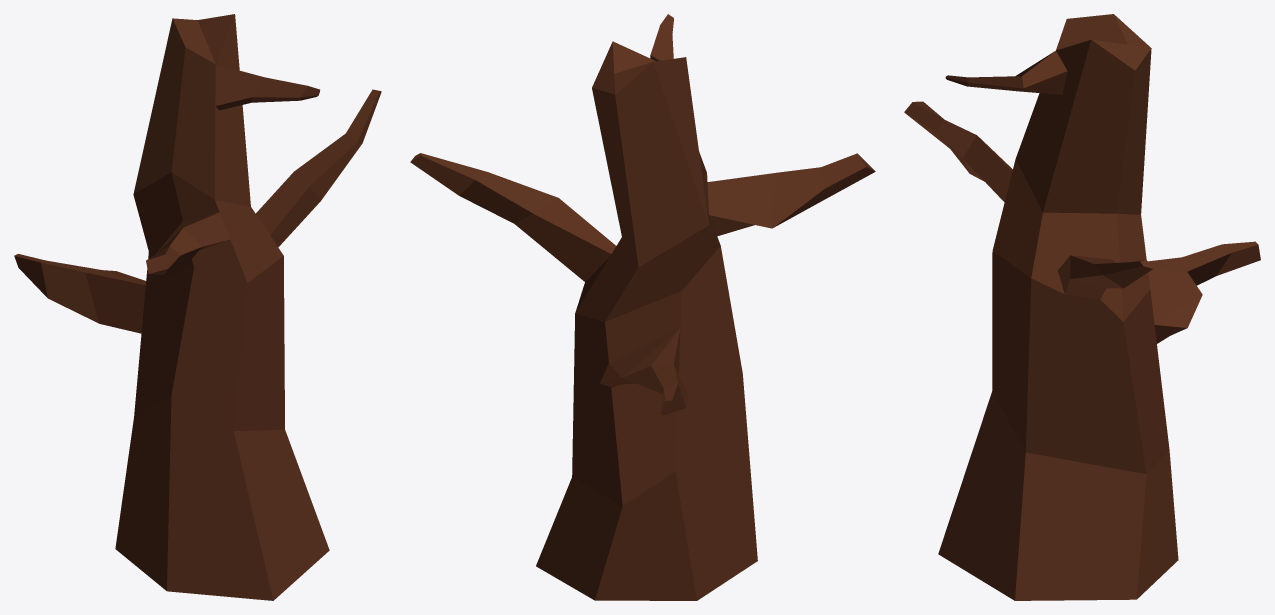
File: DeadTree2.fbx
3 renders of one model, left to right at view 1: azimuth 30°, elevation 25°; view 2: azimuth 150°, elevation 25°; view 3: azimuth 270°, elevation 25°, orthographic. The views are drawn at different scales.
Visible parts, largest first — view 1: Cylinder; view 2: Cylinder; view 3: Cylinder.
Part boxes in pixels (x1=…): Cylinder: x1=14, y1=14, x2=381, y2=600; Cylinder: x1=410, y1=14, x2=875, y2=600; Cylinder: x1=904, y1=14, x2=1260, y2=600.
Size of the model in its own units: 349 by 400 by 575.
